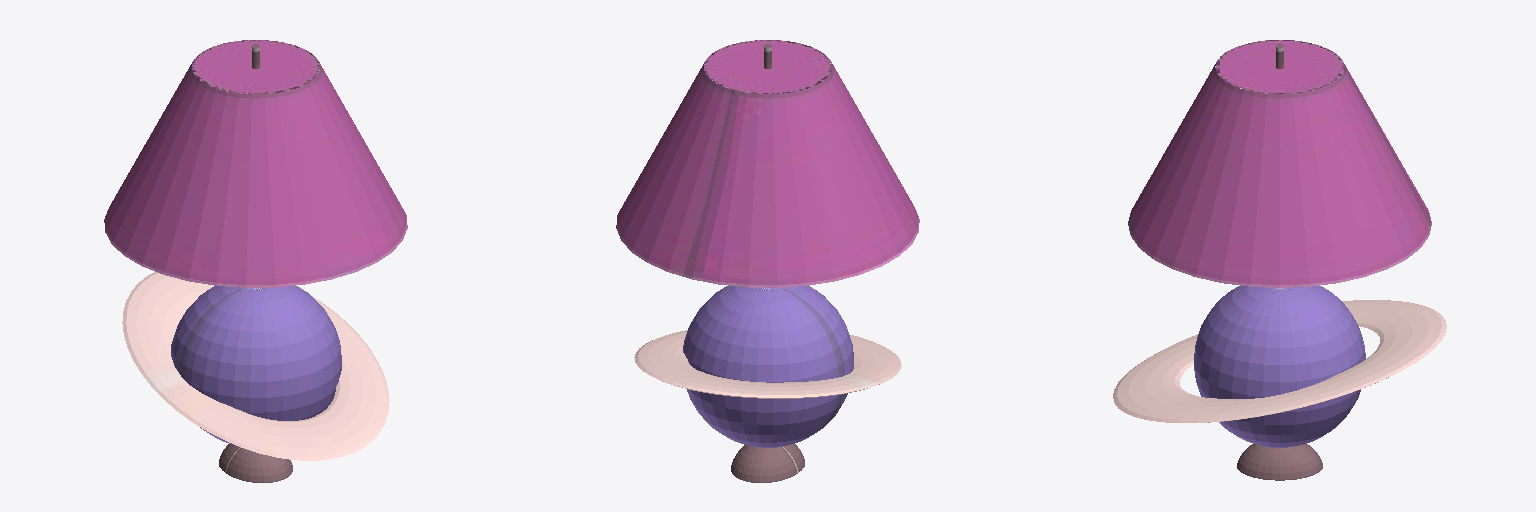
3 views of the same model, side by side, from view 1: azimuth 30°, elevation 25°; view 2: azimuth 150°, elevation 25°; view 3: azimuth 270°, elevation 25° (orthographic).
Parts seen in each view (by area): view 1: Sphere.001_Sphere.007; view 2: Sphere.001_Sphere.007; view 3: Sphere.001_Sphere.007.
Boxes of the visible parts, <box> form: Sphere.001_Sphere.007: <box>104,40,407,482</box>; Sphere.001_Sphere.007: <box>616,40,919,482</box>; Sphere.001_Sphere.007: <box>1113,40,1446,480</box>.
Size of the model in its own units: 1.16 by 1.76 by 1.27.
Materials: 1 (1 with a texture image).